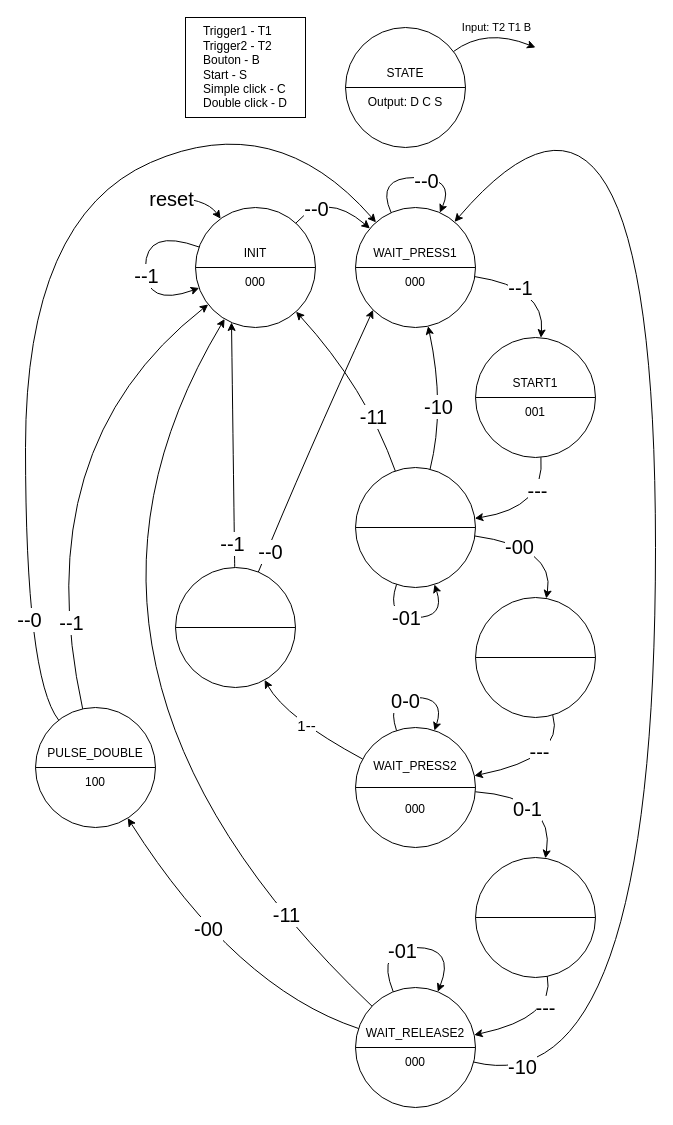
This 673x1125 diagram has some shape labels left out. The centre of each missing label's shape, as x and y in pixels:
PULSE_SINGLE 010: point (235, 627)
START2 001: point (535, 657)
START3 001: point (535, 917)
WAIT_RELEASE1 000: point (415, 527)
